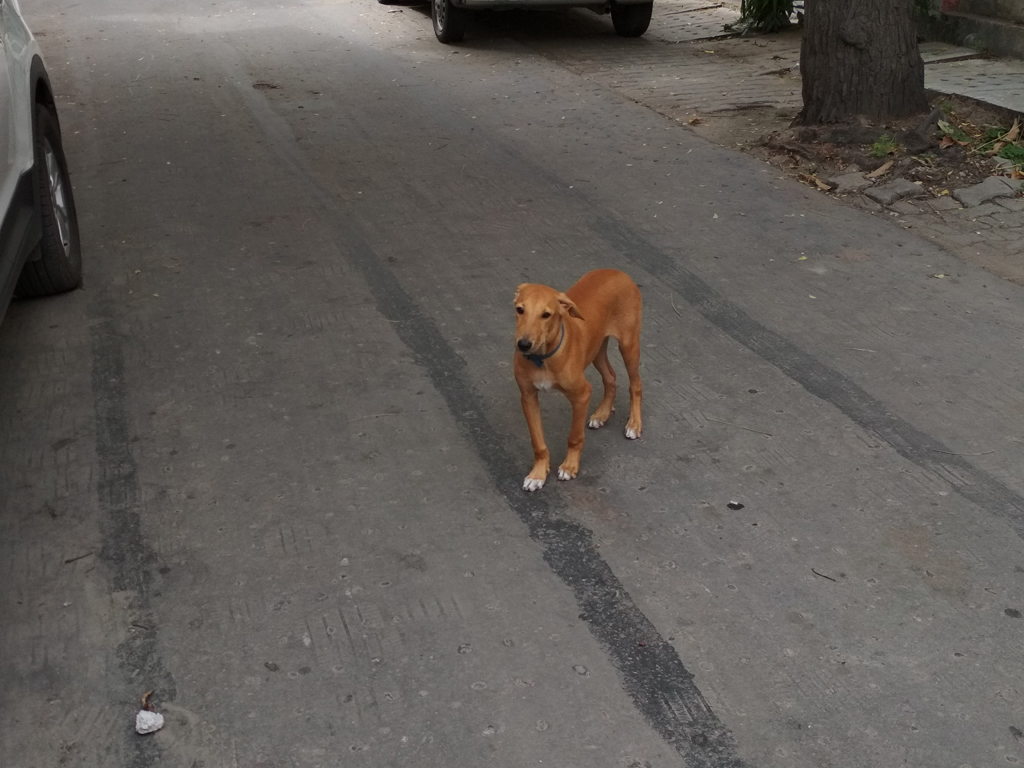dog: (511, 268, 641, 492)
